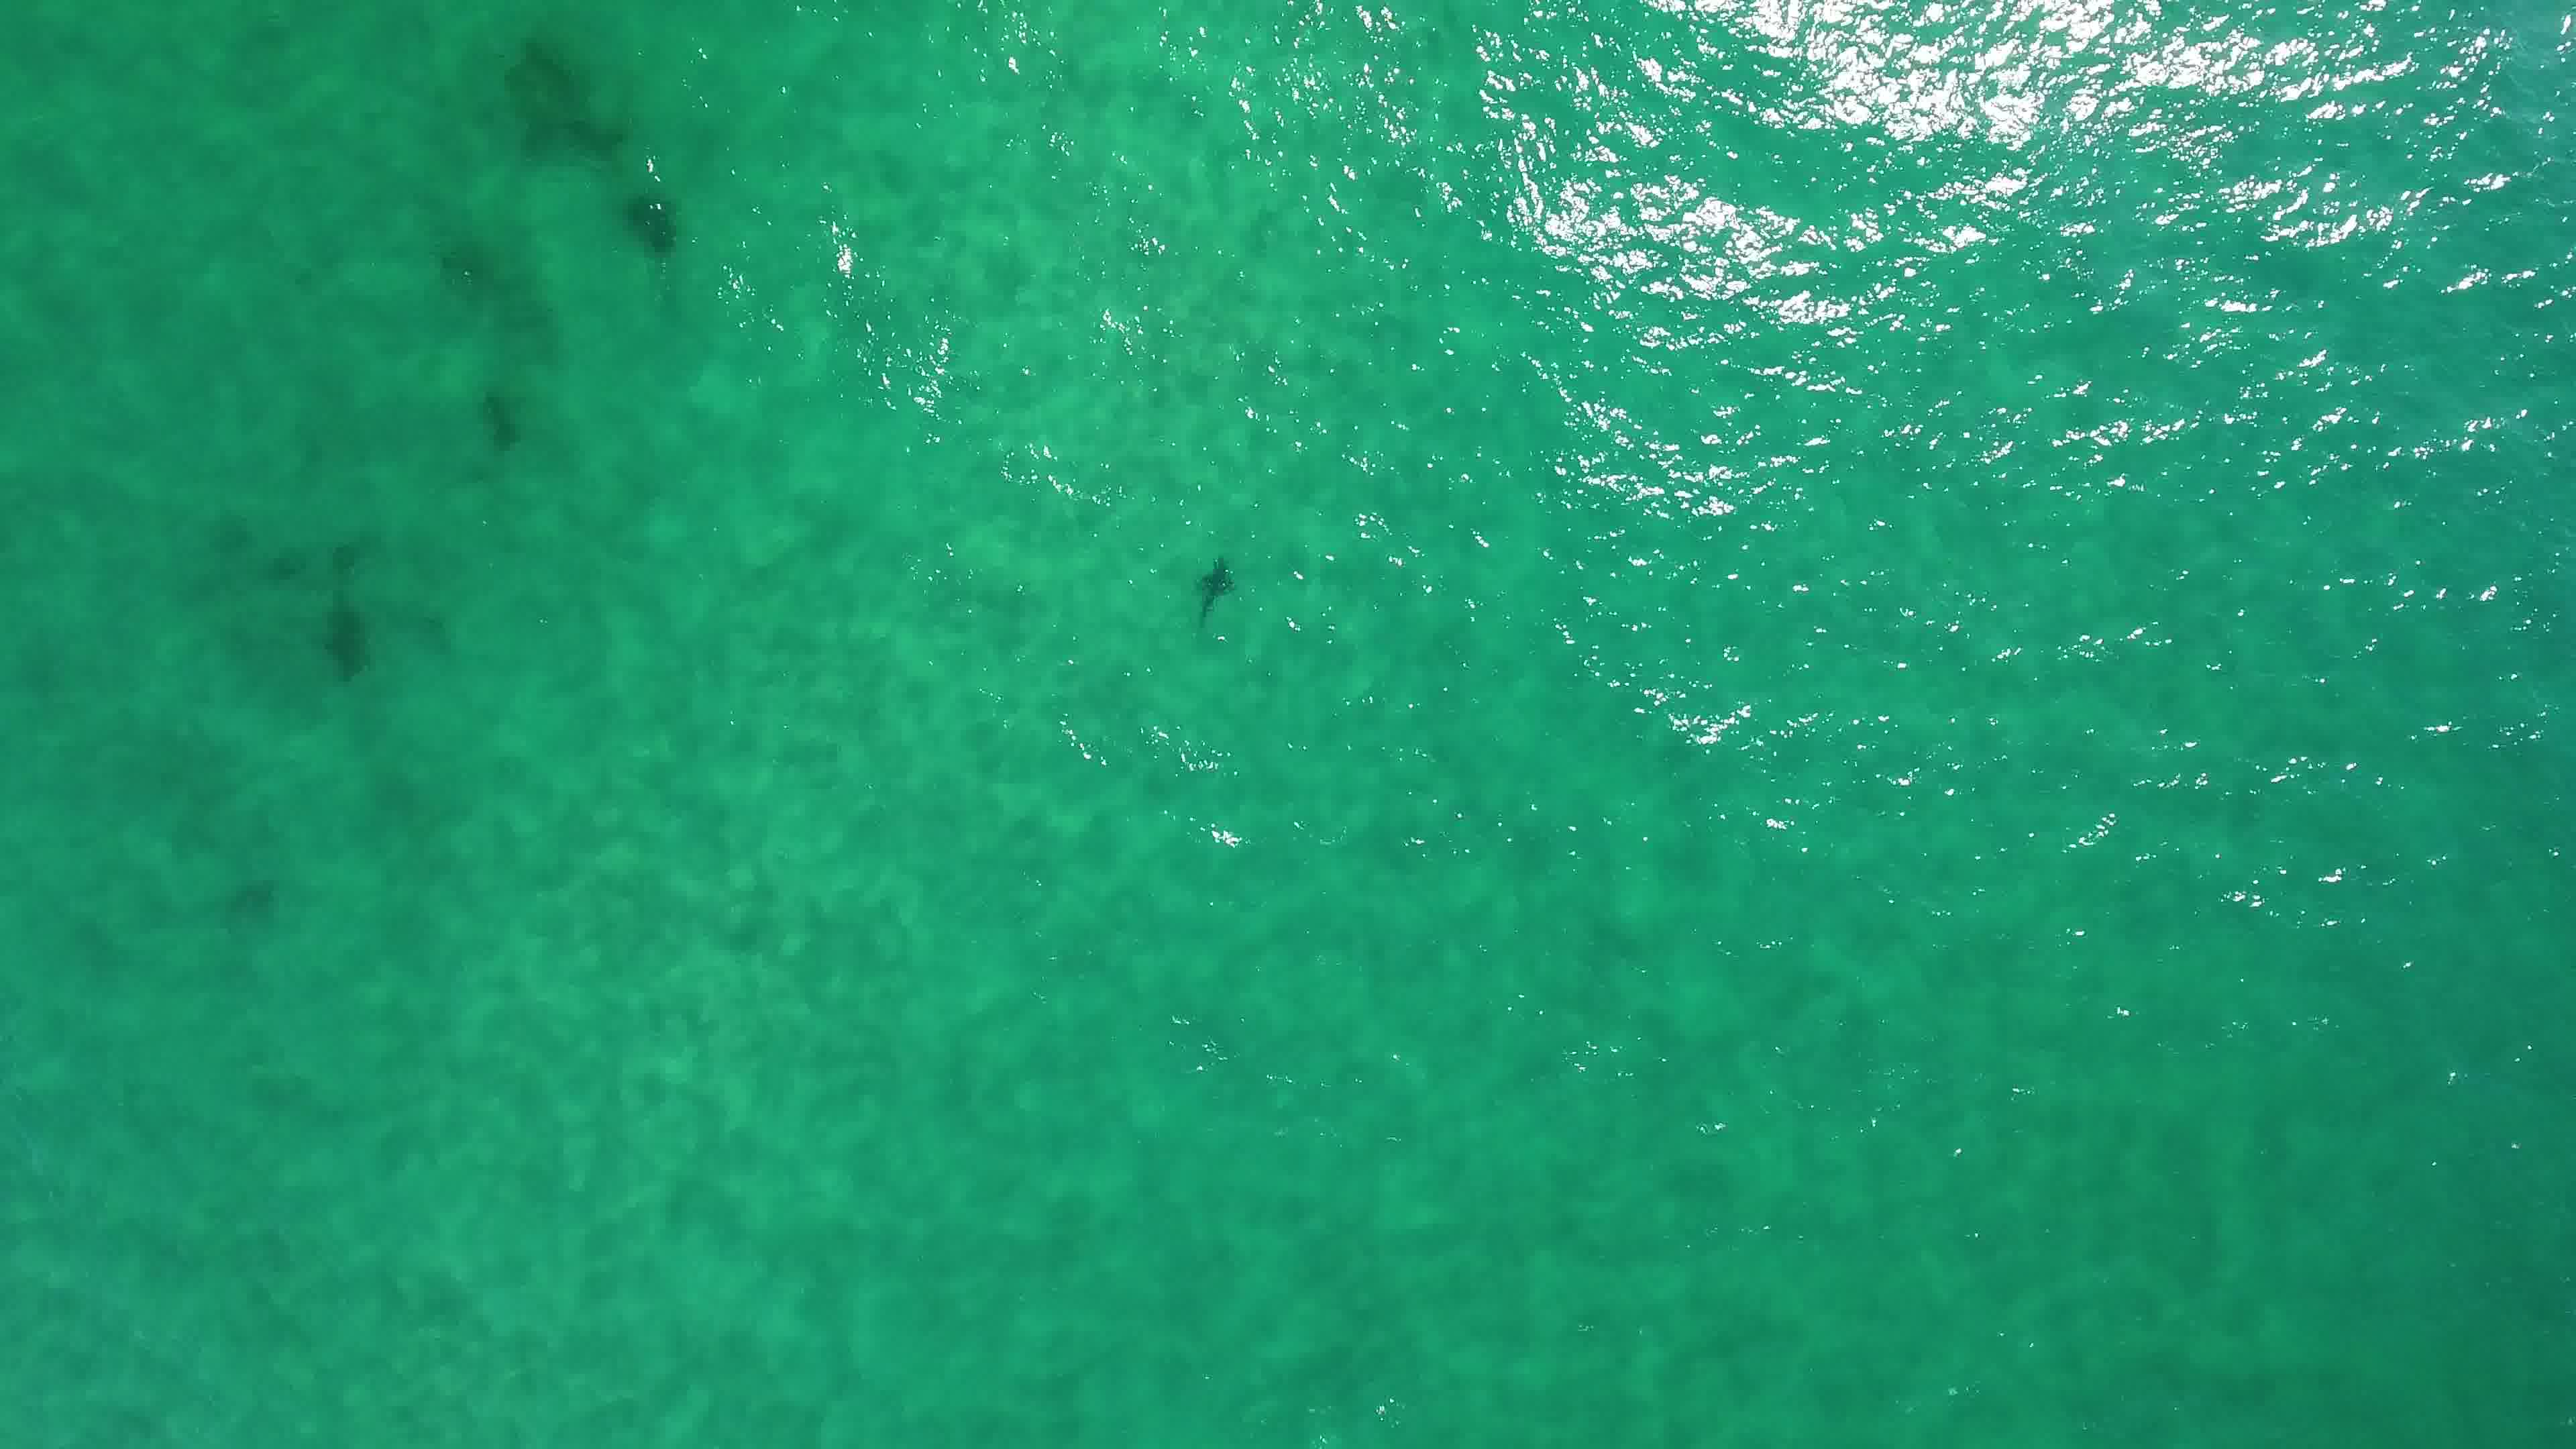shark: (1178, 548, 1249, 637)
